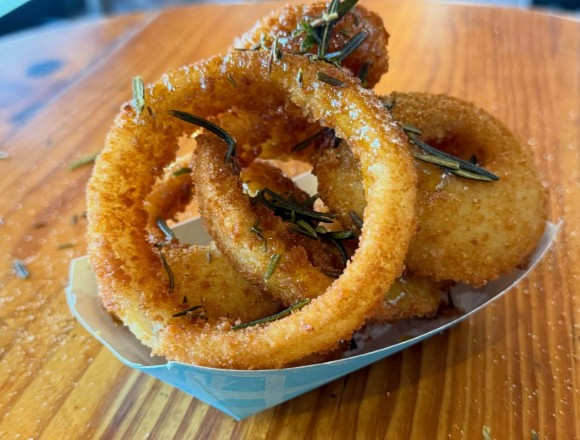sel_roti: (87, 55, 417, 371), (343, 90, 542, 269)
